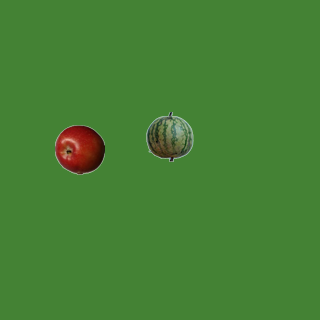Apple Braeburn: (54, 124, 104, 174)
Watermelon: (144, 111, 194, 161)
